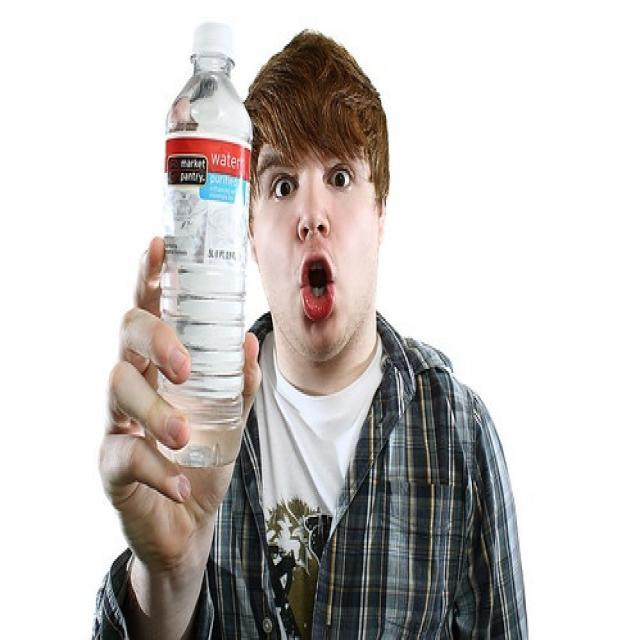plastic_bottle: (156, 21, 254, 468)
